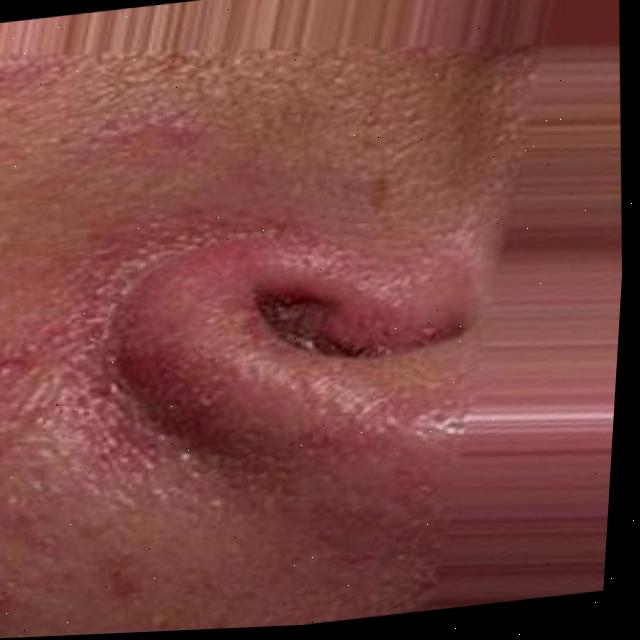Rosacea: (0, 349, 158, 579)
